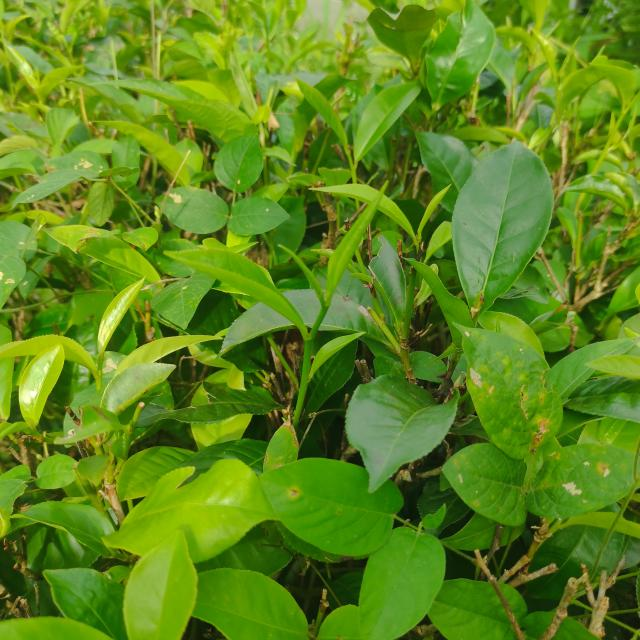unopened_leaf: (273, 239, 333, 310)
